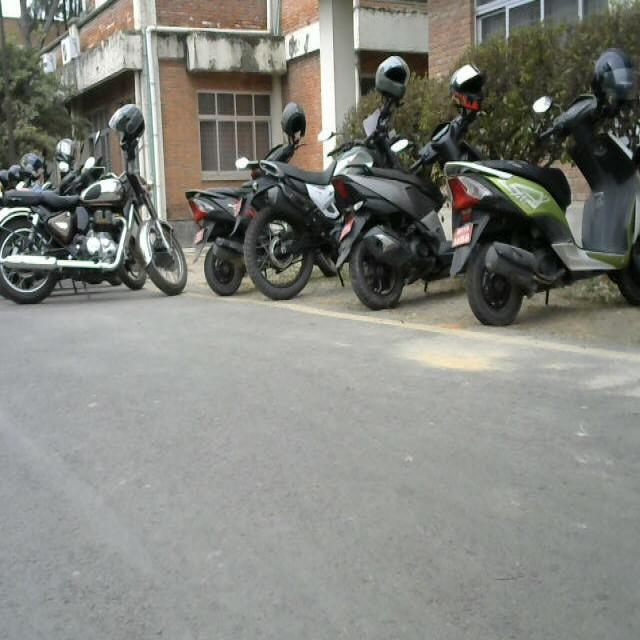Bike: (219, 60, 638, 324), (0, 134, 185, 319)
Road: (9, 304, 639, 640)
